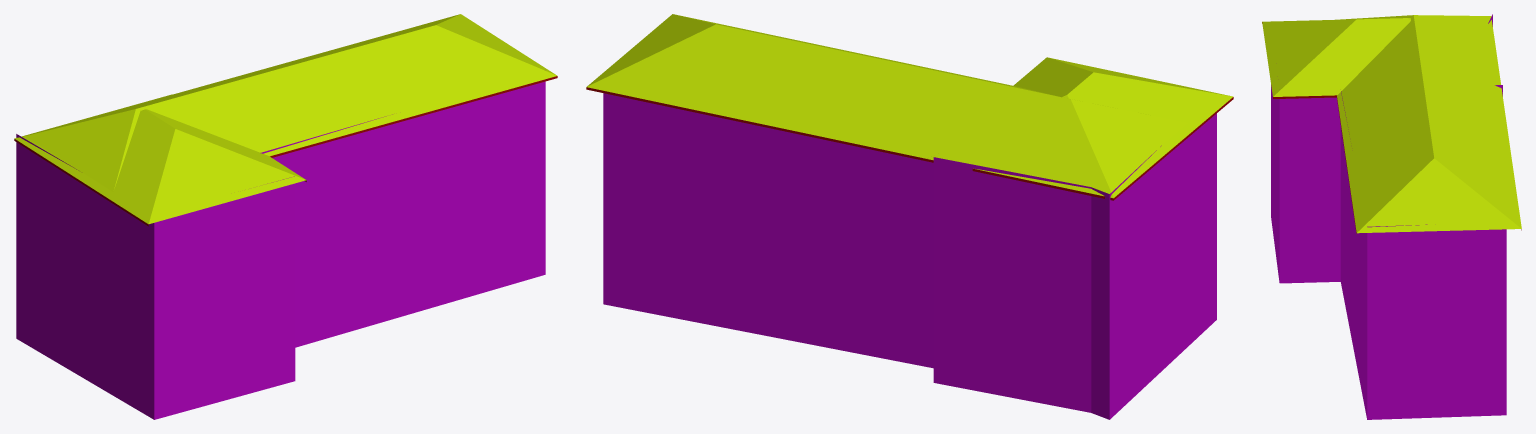
Rendered from sal_8.glb.
3 renders of one model, left to right at view 1: azimuth 30°, elevation 25°; view 2: azimuth 150°, elevation 25°; view 3: azimuth 270°, elevation 25°, orthographic. The views are drawn at different scales.
Parts seen in each view (by area): view 1: sal_8; view 2: sal_8; view 3: sal_8.
Boxes of the visible parts, box(x1,y1,x2,y2) form: sal_8: box(14, 14, 557, 419); sal_8: box(586, 14, 1233, 419); sal_8: box(1262, 14, 1521, 419).
Bounding box in the file's own units: 26.97 × 13.19 × 13.64.
